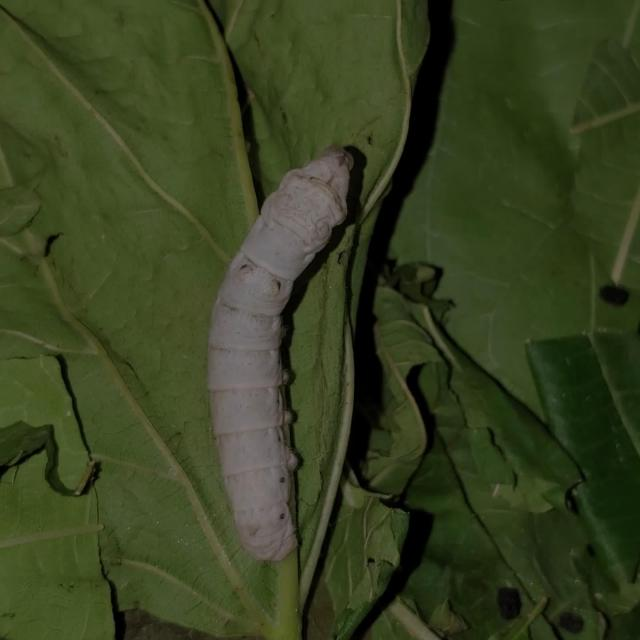Healthy: (194, 132, 366, 569)
